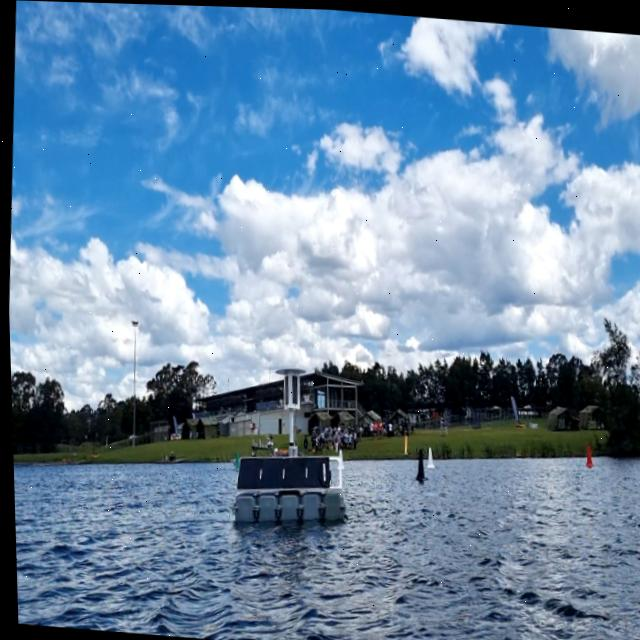led: (286, 371, 298, 406), (281, 373, 288, 404)
